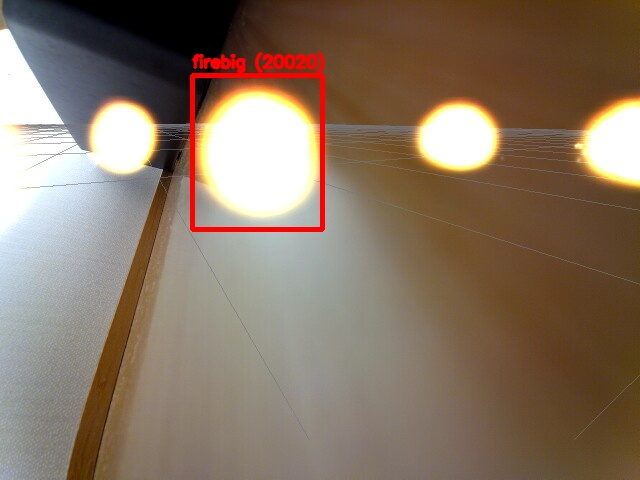firebig: (192, 75, 322, 229)
